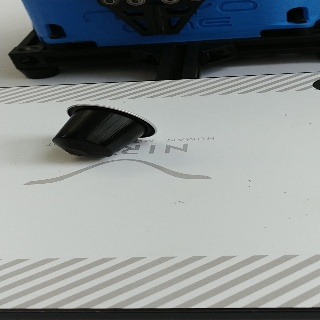capsule_10: (50, 103, 158, 158)
